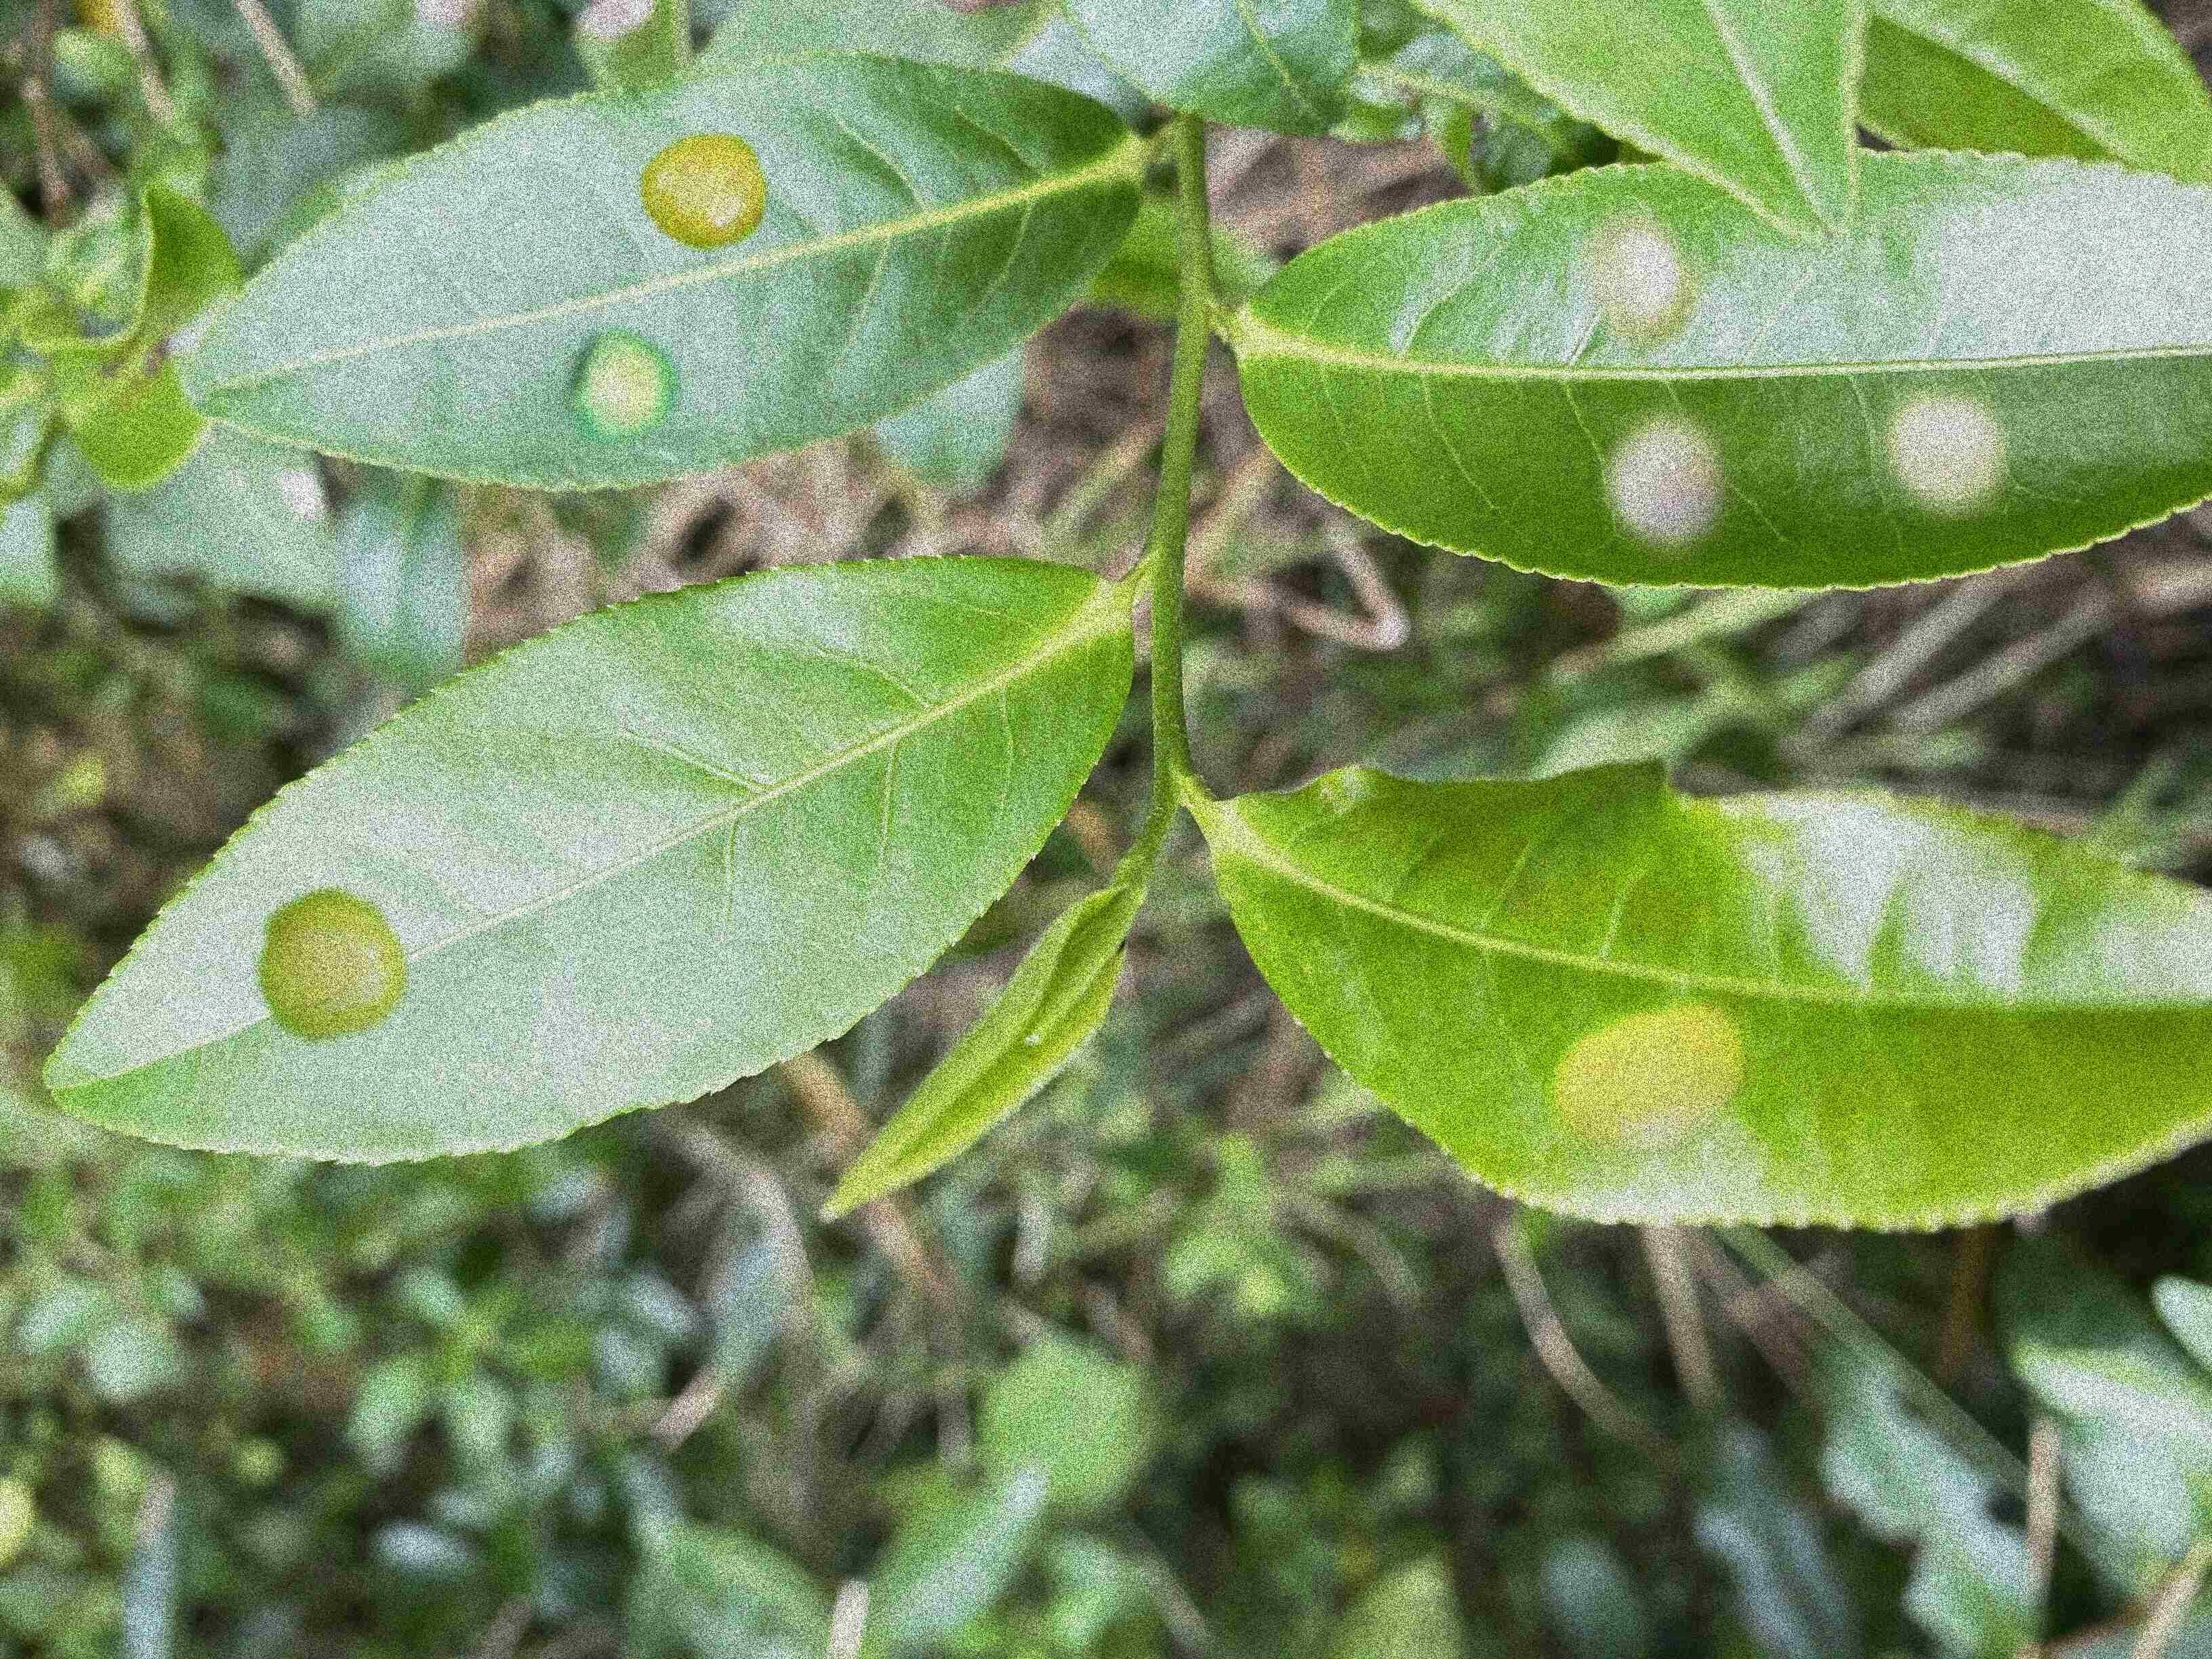chabing_high: (1228, 141, 2207, 594), (183, 49, 1163, 495)
chabing_low: (44, 558, 1137, 1171), (1204, 751, 2209, 1236)
